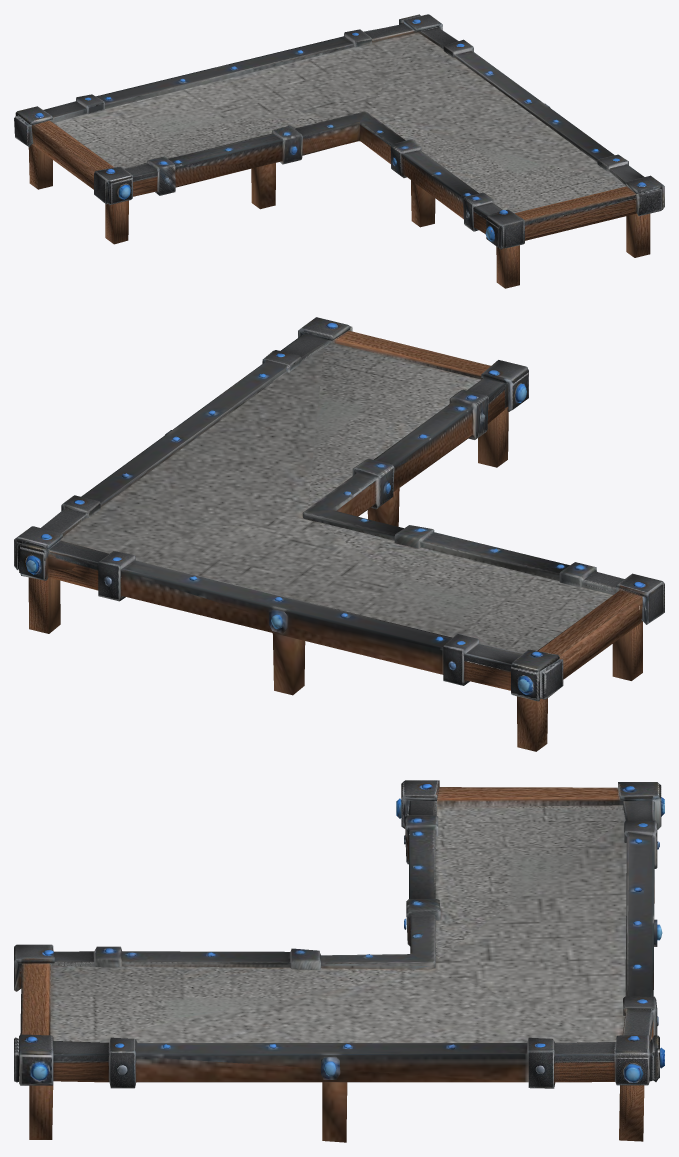
The model's file is tripo_convert_757a4559-c5ec-456e-8856-d98f74a2e762.fbx.
The picture shows the model from 3 angles, top to bottom: view 1: azimuth 30°, elevation 25°; view 2: azimuth 150°, elevation 25°; view 3: azimuth 270°, elevation 25°; orthographic projection. The views are drawn at different scales.
Visible parts, largest first — view 1: tripo_node_757a4559; view 2: tripo_node_757a4559; view 3: tripo_node_757a4559.
Boxes of the visible parts, x1=… form: tripo_node_757a4559: x1=14, y1=14, x2=664, y2=288; tripo_node_757a4559: x1=14, y1=317, x2=664, y2=751; tripo_node_757a4559: x1=14, y1=780, x2=664, y2=1142.
Bounding box in the file's own units: 0.998 × 0.166 × 0.998.
Materials: 1 (1 with a texture image).
